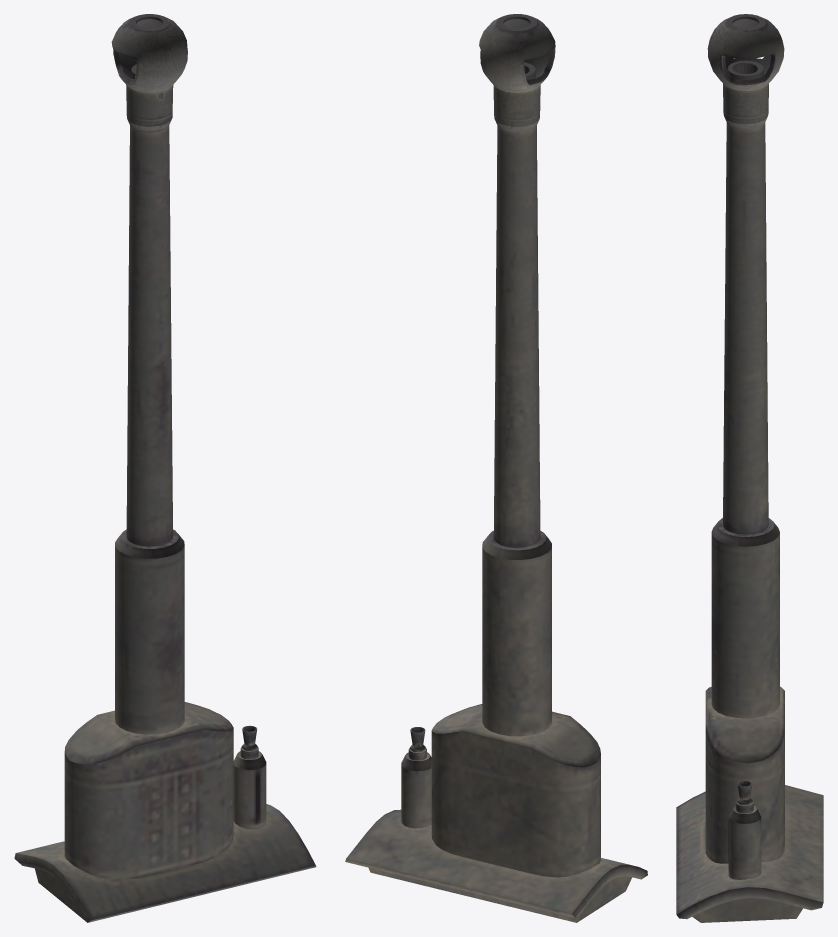
The model's file is Gun_07.glb.
3 renders of one model, left to right at view 1: azimuth 30°, elevation 25°; view 2: azimuth 150°, elevation 25°; view 3: azimuth 270°, elevation 25°, orthographic. The views are drawn at different scales.
Parts seen in each view (by area): view 1: set_0_group_0; view 2: set_0_group_0; view 3: set_0_group_0.
Part boxes in pixels (x1,y1,x2,y2): set_0_group_0: (14,14,316,922); set_0_group_0: (345,14,647,922); set_0_group_0: (676,14,823,922).
Size of the model in its own units: 0.7787 by 2.8 by 0.443.
1 material, 1 textured.
